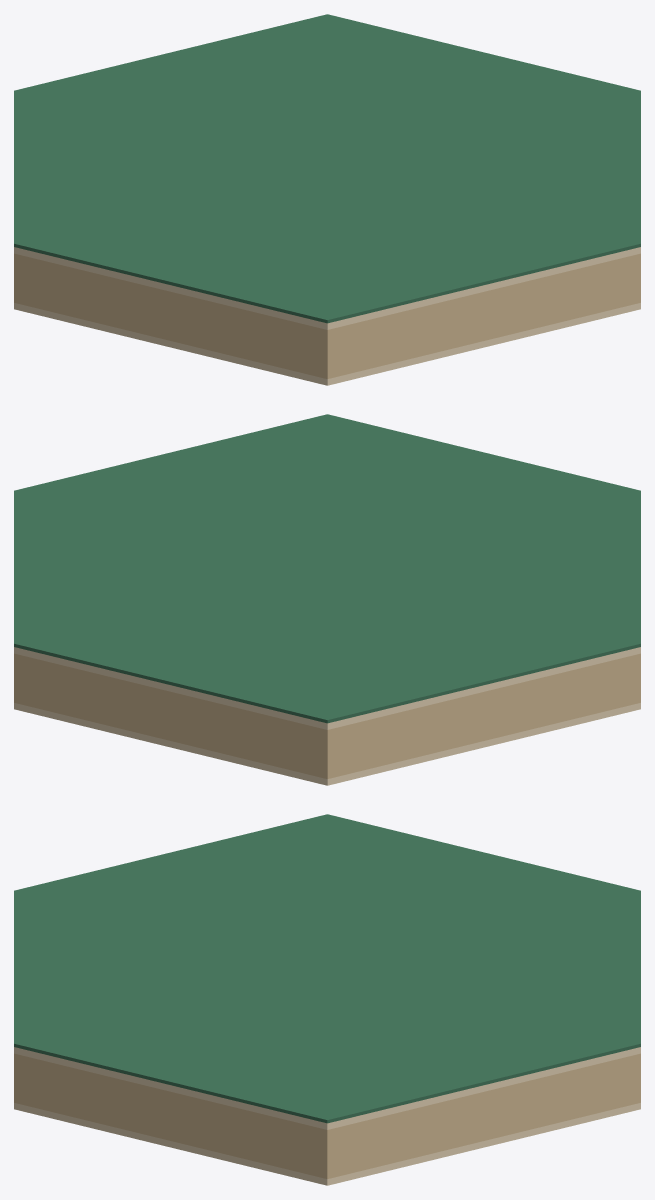
The model's file is terrain.glb.
The picture shows the model from 3 angles, top to bottom: view 1: azimuth 30°, elevation 25°; view 2: azimuth 150°, elevation 25°; view 3: azimuth 270°, elevation 25°; orthographic projection.
Visible parts, largest first — view 1: Tile_Grass_Deep_Geometry; view 2: Tile_Grass_Deep_Geometry; view 3: Tile_Grass_Deep_Geometry.
Part boxes in pixels (x1=…): Tile_Grass_Deep_Geometry: x1=14, y1=14, x2=640, y2=385; Tile_Grass_Deep_Geometry: x1=14, y1=414, x2=640, y2=785; Tile_Grass_Deep_Geometry: x1=14, y1=814, x2=640, y2=1185.
Size of the model in its own units: 2 by 0.2 by 1.73.
